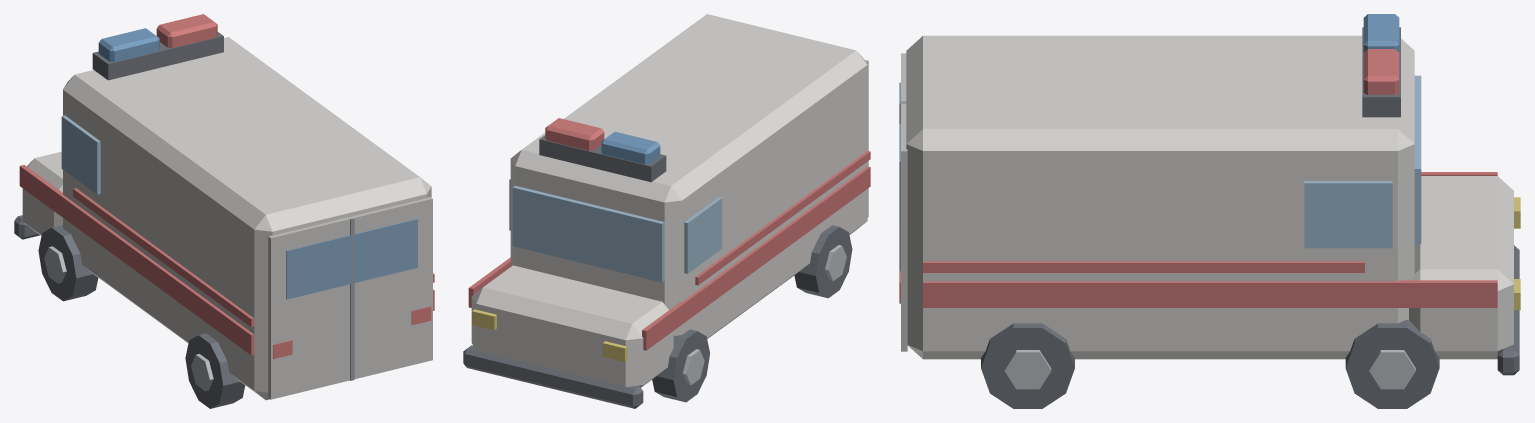
Rendered from veiculos__ambulancia.glb.
3 renders of one model, left to right at view 1: azimuth 30°, elevation 25°; view 2: azimuth 150°, elevation 25°; view 3: azimuth 270°, elevation 25°, orthographic. The views are drawn at different scales.
Visible parts, largest first — view 1: veiculos__ambulancia; view 2: veiculos__ambulancia; view 3: veiculos__ambulancia.
Part boxes in pixels (x1,y1,x2,y2): veiculos__ambulancia: (14,14,434,408); veiculos__ambulancia: (463,14,870,408); veiculos__ambulancia: (899,14,1520,408).
Size of the model in its own units: 0.52 by 0.6108 by 1.12.
